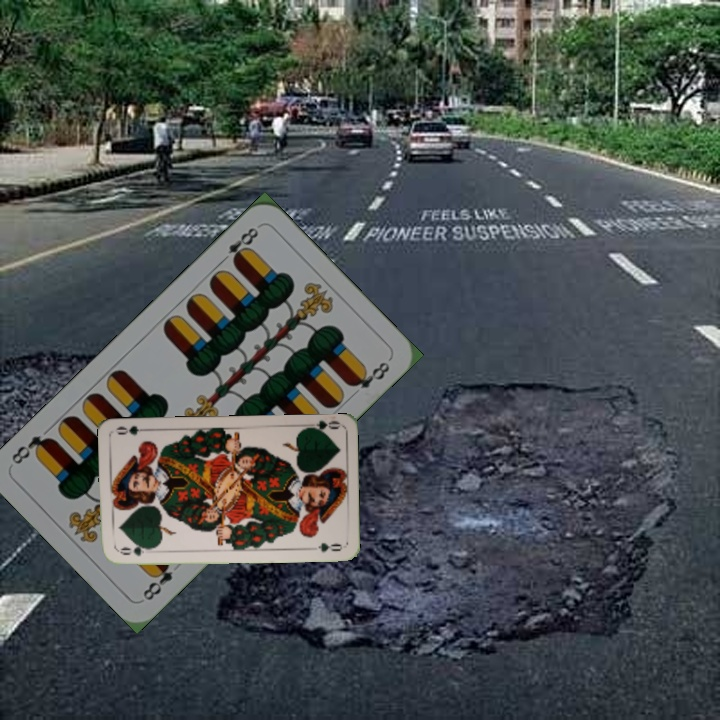E8: (215, 223, 261, 268), (139, 555, 175, 603)
GO: (301, 417, 341, 437), (115, 541, 155, 558)
